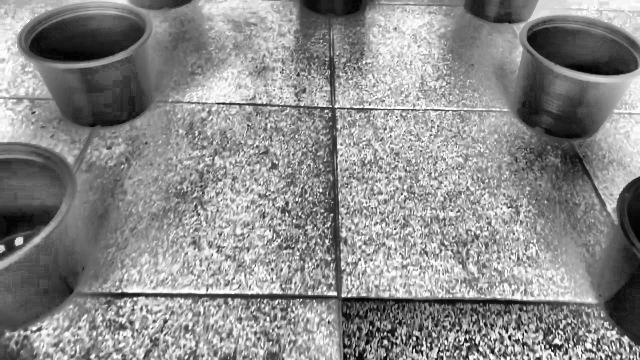pot: (17, 0, 154, 129), (510, 16, 640, 140), (0, 142, 88, 322)
